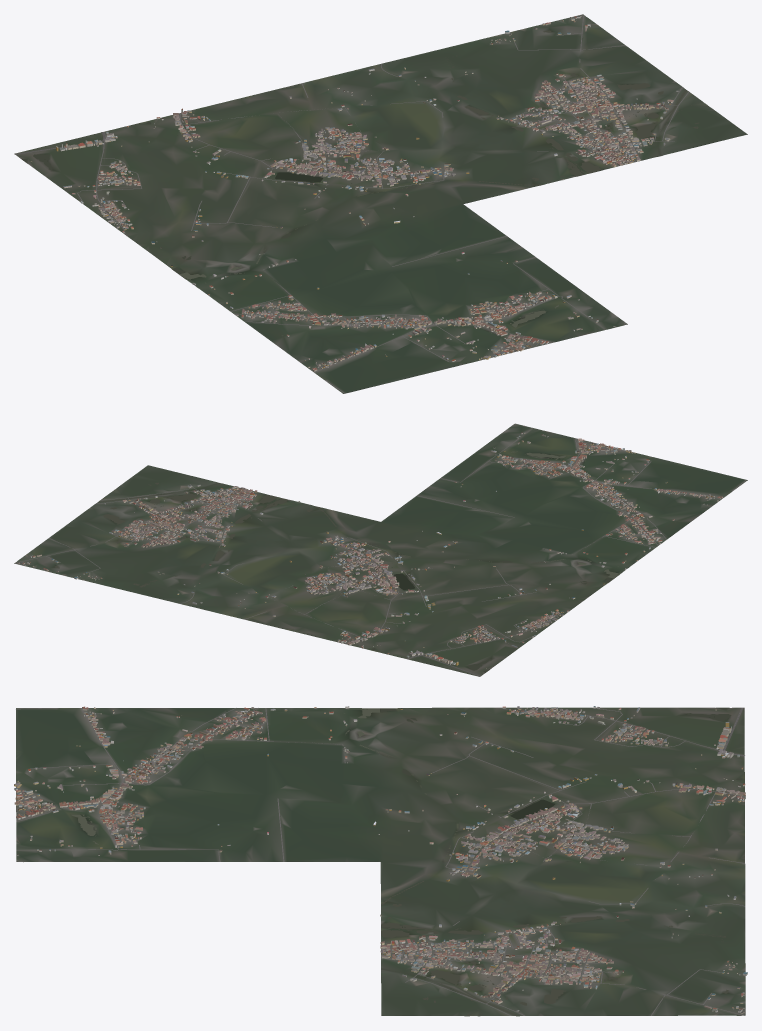
3 views of the same model, one above another, from view 1: azimuth 30°, elevation 25°; view 2: azimuth 150°, elevation 25°; view 3: azimuth 270°, elevation 25° (orthographic). The views are drawn at different scales.
Visible parts, largest first — view 1: ground, buildings, roads, water; view 2: ground, buildings, roads, water; view 3: ground, buildings, roads, water.
Boxes of the visible parts, x1,y1,x2,y2 form: ground: (14, 14, 747, 393); buildings: (30, 15, 678, 371); roads: (15, 15, 689, 393); water: (21, 30, 708, 335); ground: (14, 423, 747, 676); buildings: (18, 426, 722, 668); roads: (17, 424, 746, 676); water: (54, 451, 618, 672); ground: (16, 707, 745, 1016); buildings: (14, 706, 747, 1013); roads: (16, 707, 745, 1015); water: (71, 707, 742, 1015).
Size of the model in its own units: 2811 by 22.92 by 2823.
